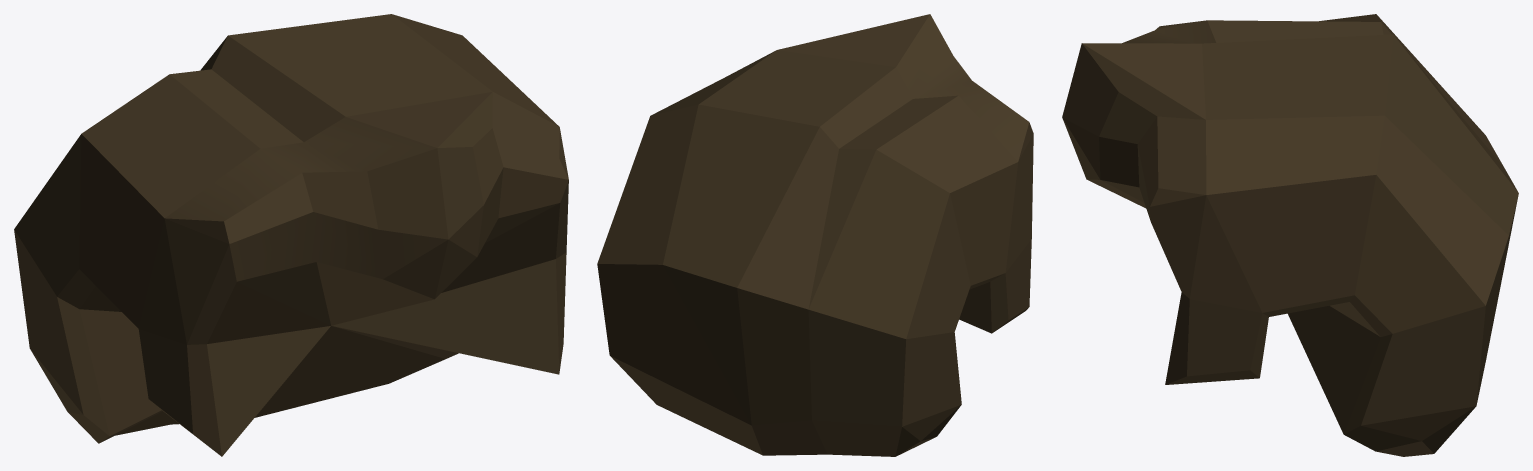
Rendered from Chr_Hair_18_Static.fbx.
3 views of the same model, side by side, from view 1: azimuth 30°, elevation 25°; view 2: azimuth 150°, elevation 25°; view 3: azimuth 270°, elevation 25° (orthographic). The views are drawn at different scales.
Visible parts, largest first — view 1: Chr_Hair_18_Static; view 2: Chr_Hair_18_Static; view 3: Chr_Hair_18_Static.
Part boxes in pixels (left/top/right/bottom): Chr_Hair_18_Static: left=14, top=14, right=568, bottom=456; Chr_Hair_18_Static: left=597, top=14, right=1033, bottom=456; Chr_Hair_18_Static: left=1062, top=14, right=1518, bottom=456.
Size of the model in its own units: 0.2475 by 0.2386 by 0.2673.
